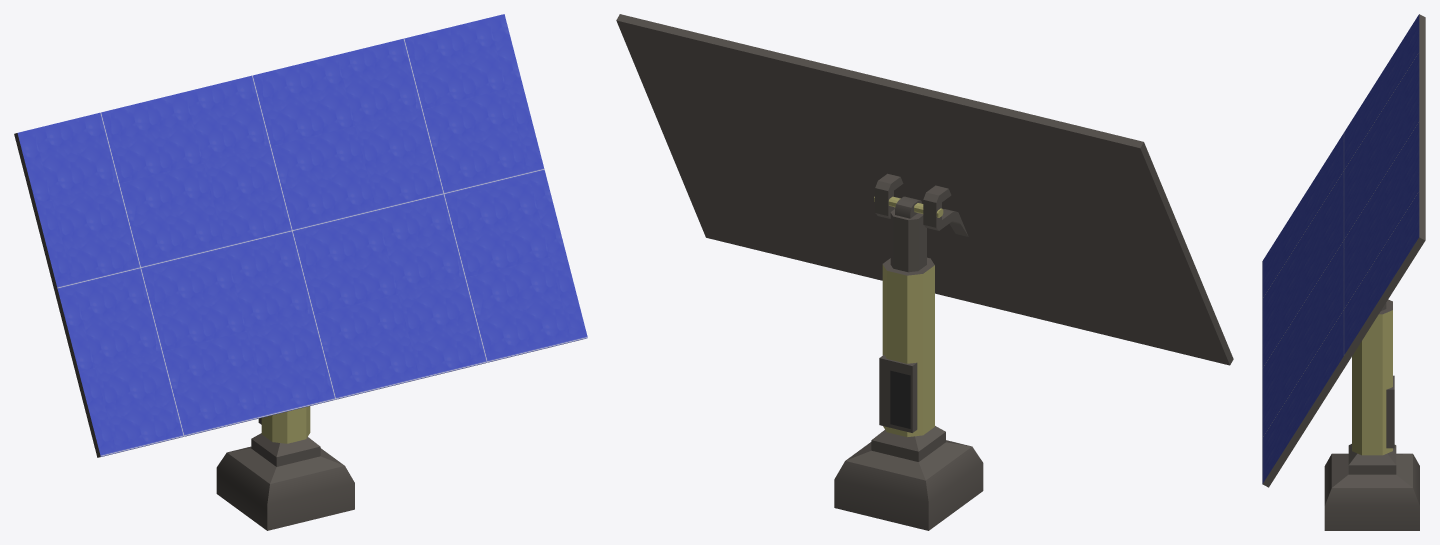
The model's file is Solar_System.fbx.
3 renders of one model, left to right at view 1: azimuth 30°, elevation 25°; view 2: azimuth 150°, elevation 25°; view 3: azimuth 270°, elevation 25°, orthographic. The views are drawn at different scales.
Parts seen in each view (by area): view 1: pCube6, pCube1, pCube2; view 2: pCube6, pCube1, pCube2, pCube8, pasted__pasted__pCube7, pCube7; view 3: pCube6, pCube1, pCube2, pCube8.
Part boxes in pixels (x1,y1,x2,y2): pCube6: (14, 14, 587, 457); pCube1: (216, 433, 354, 530); pCube2: (261, 406, 310, 443); pCube6: (616, 14, 1233, 365); pCube1: (834, 426, 983, 530); pCube2: (882, 209, 934, 437); pCube8: (879, 355, 917, 432); pasted__pasted__pCube7: (923, 185, 968, 236); pCube7: (875, 173, 903, 218); pCube6: (1262, 14, 1425, 487); pCube1: (1324, 444, 1419, 530); pCube2: (1352, 299, 1392, 455); pCube8: (1386, 375, 1394, 448).
Bounding box in the file's own units: 8.18 × 6.58 × 2.53.
Materials: 5 (1 with a texture image).
